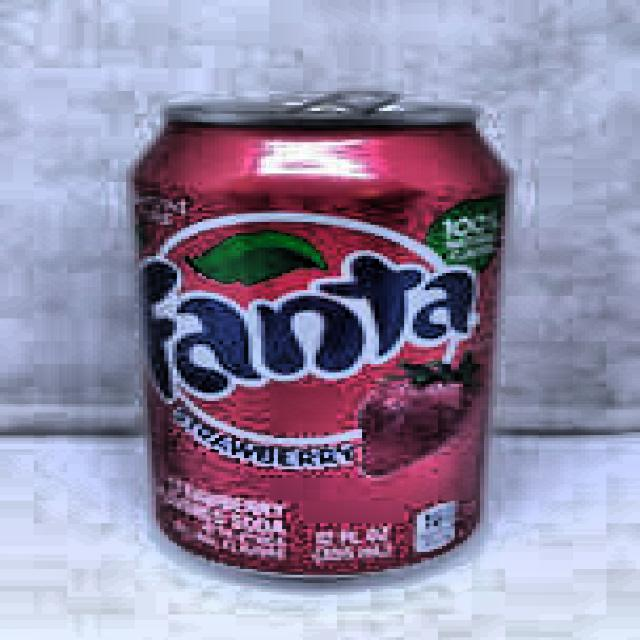Cans: (131, 100, 510, 588)
